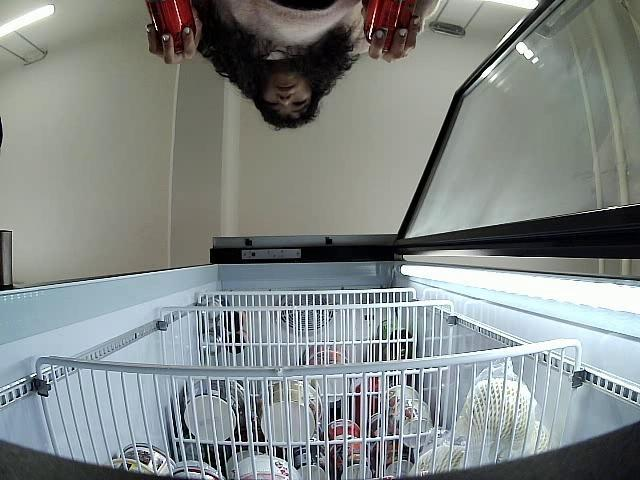11_cocaColaZero: (145, 0, 198, 49), (363, 0, 418, 47)
